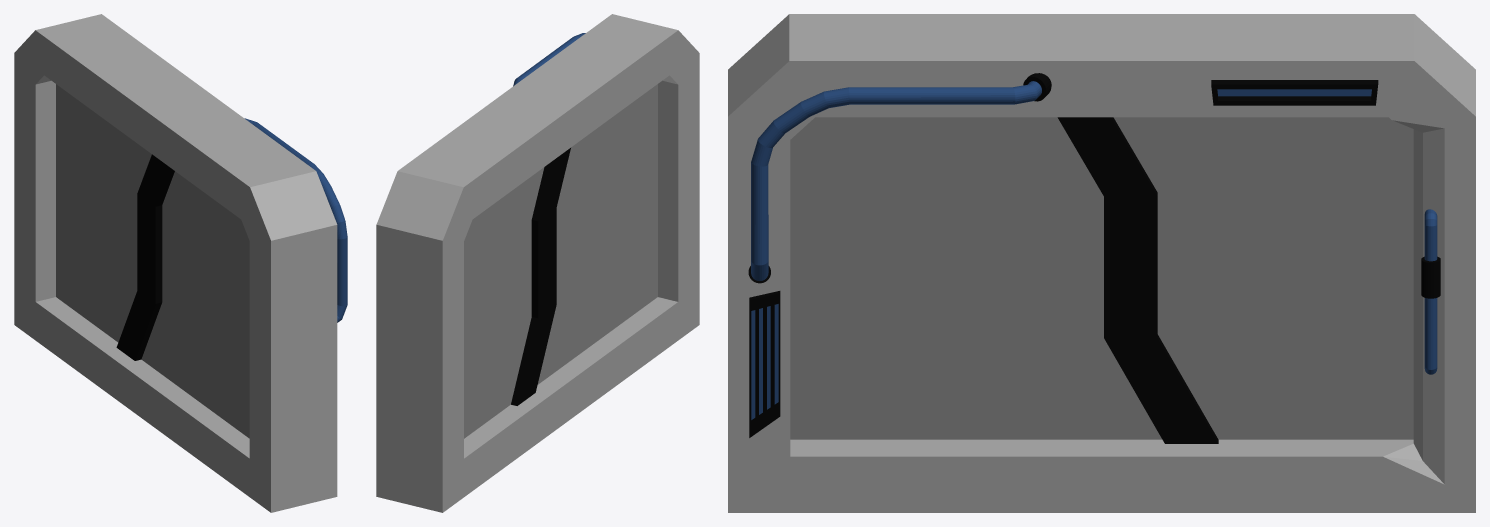
The model's file is sci_fir_doors_01.fbx.
The picture shows the model from 3 angles, left to right: view 1: azimuth 30°, elevation 25°; view 2: azimuth 150°, elevation 25°; view 3: azimuth 270°, elevation 25°; orthographic projection. The views are drawn at different scales.
Visible parts, largest first — view 1: Door Frame, LeftAngle, RightAngle; view 2: Door Frame, LeftAngle, RightAngle; view 3: Door Frame, LeftAngle, RightAngle.
Boxes of the visible parts, x1,y1,x2,y2 form: Door Frame: [14, 14, 347, 512]; LeftAngle: [116, 154, 249, 438]; RightAngle: [56, 84, 151, 342]; Door Frame: [376, 14, 699, 512]; LeftAngle: [511, 84, 657, 405]; RightAngle: [464, 167, 544, 438]; Door Frame: [728, 14, 1475, 512]; LeftAngle: [790, 117, 1218, 443]; RightAngle: [1113, 117, 1413, 439].
Size of the model in its own units: 117 by 400 by 600.
